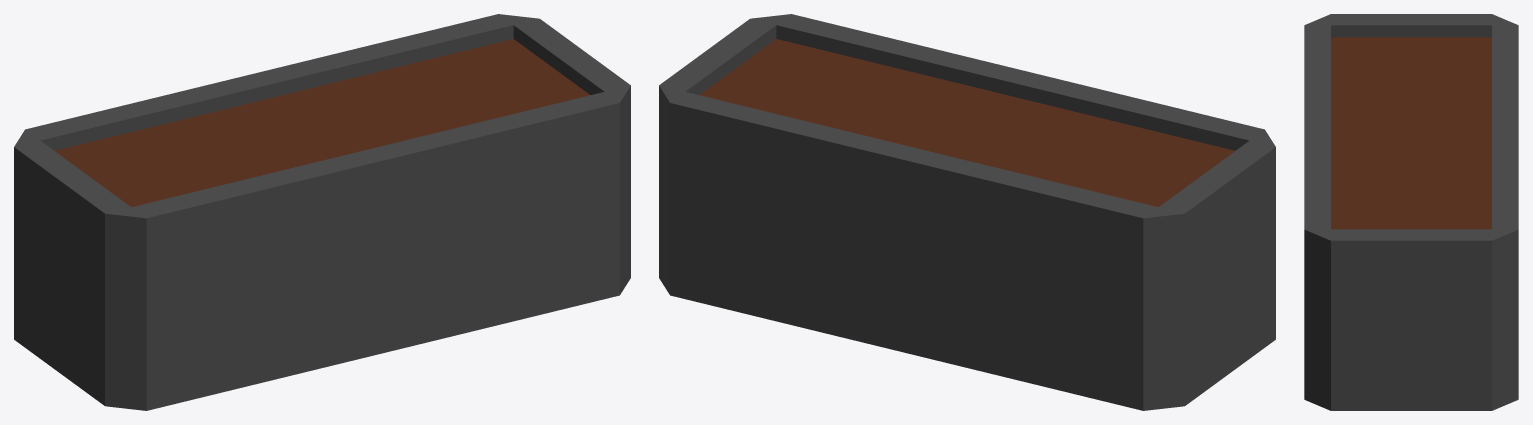
File: Flower Pot.fbx
The picture shows the model from 3 angles, left to right: view 1: azimuth 30°, elevation 25°; view 2: azimuth 150°, elevation 25°; view 3: azimuth 270°, elevation 25°; orthographic projection. The views are drawn at different scales.
Visible parts, largest first — view 1: Pot, Dirt; view 2: Pot, Dirt; view 3: Pot, Dirt.
Boxes of the visible parts, <box> form: Pot: <box>14,14,630,410</box>; Dirt: <box>55,39,590,206</box>; Pot: <box>659,14,1275,410</box>; Dirt: <box>699,39,1234,206</box>; Pot: <box>1304,14,1518,410</box>; Dirt: <box>1331,37,1491,229</box>.
Size of the model in its own units: 200 by 70 by 80.
